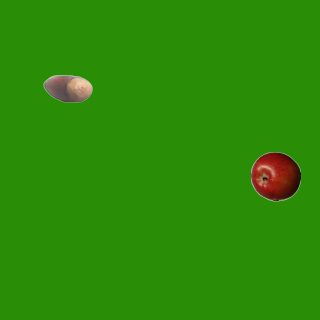Apple Braeburn: (250, 151, 300, 201)
Hazelnut: (42, 63, 92, 113)
